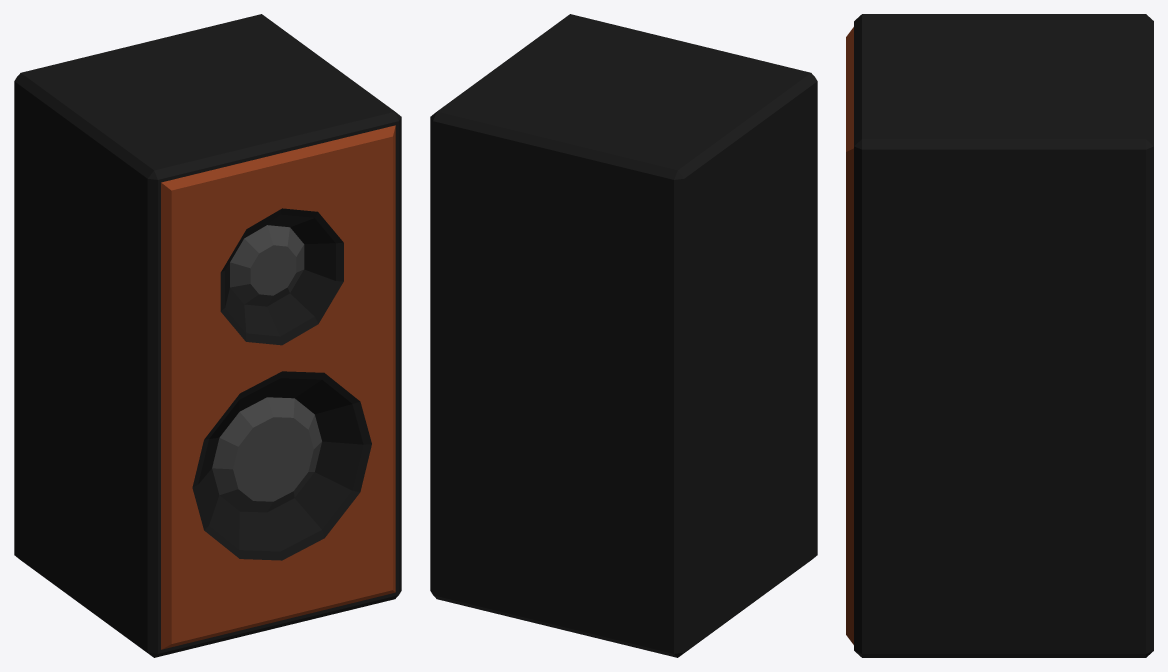
Rendered from hh_speaker.glb.
3 renders of one model, left to right at view 1: azimuth 30°, elevation 25°; view 2: azimuth 150°, elevation 25°; view 3: azimuth 270°, elevation 25°, orthographic. The views are drawn at different scales.
Visible parts, largest first — view 1: Speaker; view 2: Speaker; view 3: Speaker.
Boxes of the visible parts, x1,y1,x2,y2 form: Speaker: [14, 14, 401, 657]; Speaker: [430, 14, 817, 657]; Speaker: [846, 14, 1153, 657].
Size of the model in its own units: 0.1576 by 0.2891 by 0.1555.
